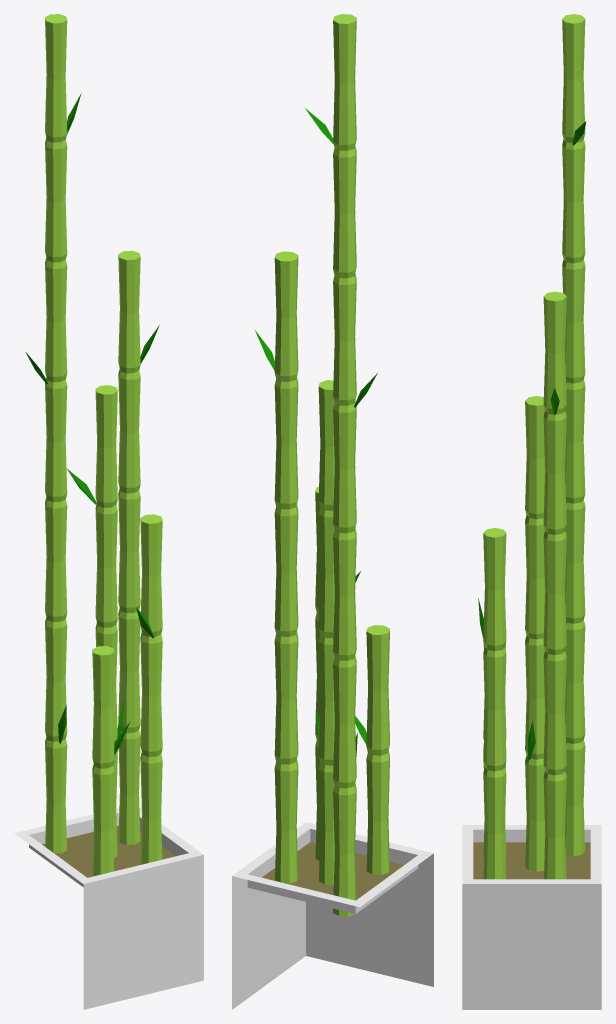
Rendered from m_coloniusLory_Bamboo.fbx.
The picture shows the model from 3 angles, left to right: view 1: azimuth 30°, elevation 25°; view 2: azimuth 150°, elevation 25°; view 3: azimuth 270°, elevation 25°; orthographic projection. The views are drawn at different scales.
Visible parts, largest first — view 1: m_coloniusLory_Bamboo; view 2: m_coloniusLory_Bamboo; view 3: m_coloniusLory_Bamboo.
Boxes of the visible parts, x1,y1,x2,y2 form: m_coloniusLory_Bamboo: (14,14,203,1009); m_coloniusLory_Bamboo: (232,14,433,1009); m_coloniusLory_Bamboo: (462,14,601,1009).
Bounding box in the file's own units: 31.4 × 225 × 30.
